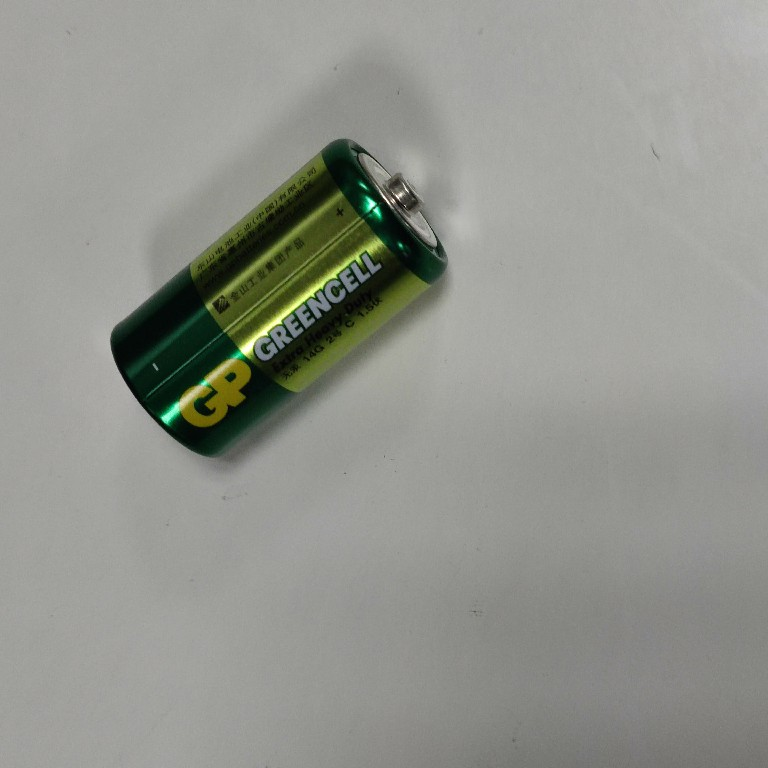charge: (108, 135, 451, 463)
